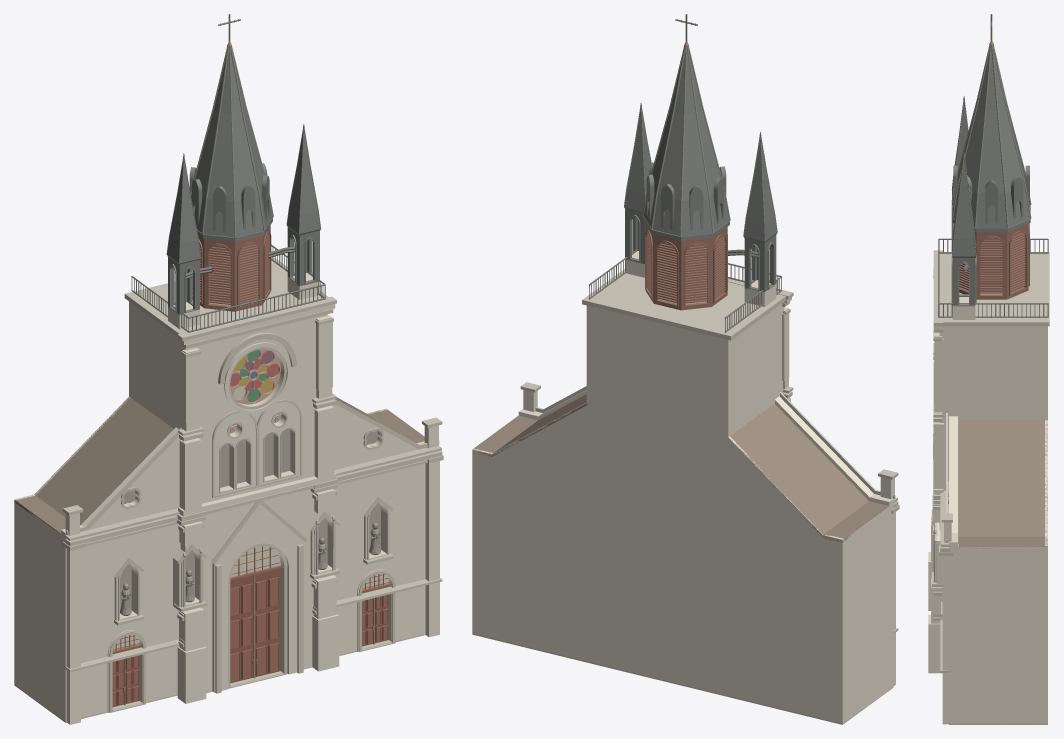
Rendered from huangpu-st-joseph-church-east-front-raw.glb.
The picture shows the model from 3 angles, left to right: view 1: azimuth 30°, elevation 25°; view 2: azimuth 150°, elevation 25°; view 3: azimuth 270°, elevation 25°; orthographic projection. The views are drawn at different scales.
Parts seen in each view (by area): view 1: 若瑟堂（四川南路36号东立面与钟塔）; view 2: 若瑟堂（四川南路36号东立面与钟塔）; view 3: 若瑟堂（四川南路36号东立面与钟塔）.
Boxes of the visible parts, x1,y1,x2,y2 form: 若瑟堂（四川南路36号东立面与钟塔）: [14, 14, 443, 724]; 若瑟堂（四川南路36号东立面与钟塔）: [472, 14, 899, 724]; 若瑟堂（四川南路36号东立面与钟塔）: [928, 14, 1049, 724].
Bounding box in the file's own units: 22.07 × 36.5 × 6.44.
